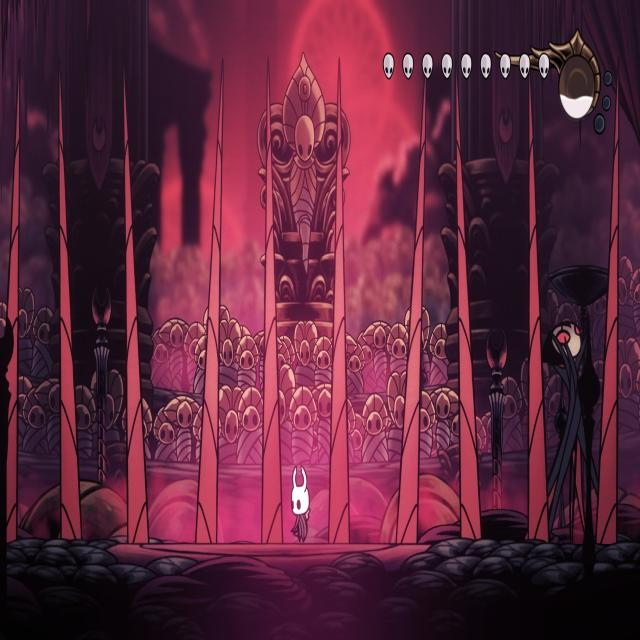Grimm: (540, 318, 601, 543)
Player: (286, 460, 312, 545)
Spikes: (395, 80, 426, 544), (195, 62, 224, 542), (455, 78, 481, 540), (124, 80, 149, 544), (596, 80, 619, 544), (329, 60, 350, 544), (261, 60, 282, 544), (59, 78, 81, 540), (528, 87, 549, 542), (6, 71, 20, 542)
